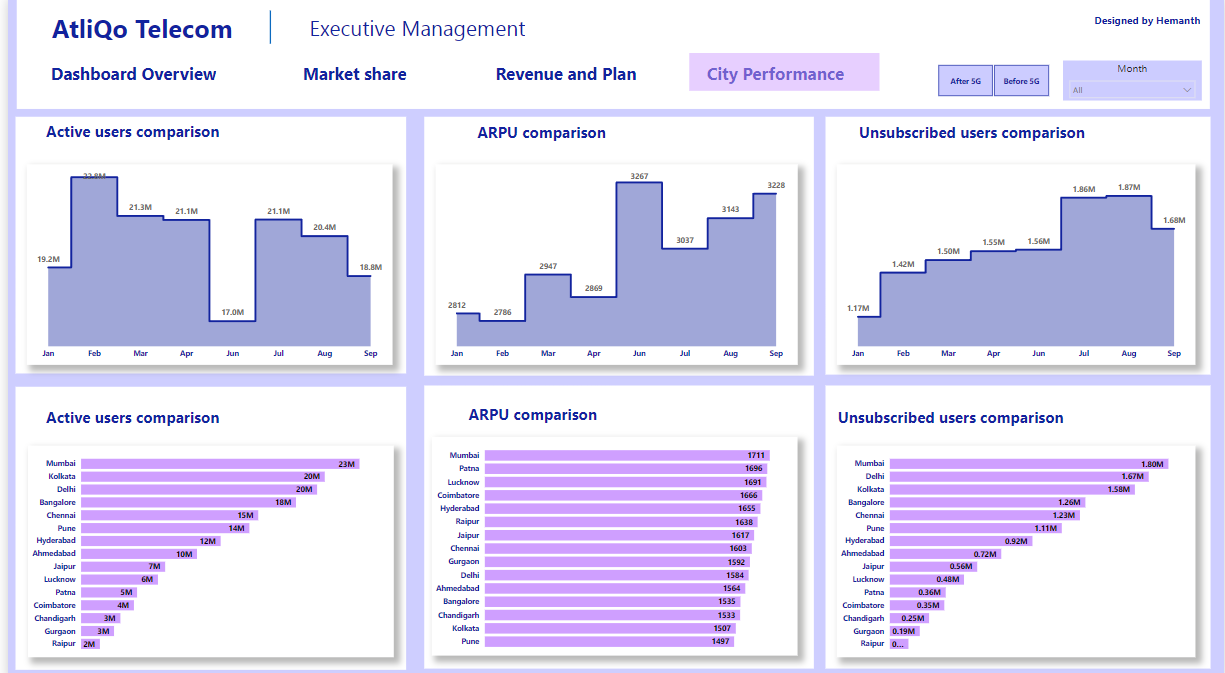

The page's visual inventory and layout, read from the dashboard file:
{"tool":"powerbi","page":{"name":"City Performance comparison","canvas":[1920,1080],"ordinal":3},"visuals":[{"type":"shape","box":[656.9,188.2,615.3,409],"z":0},{"type":"shape","box":[10.9,613.5,617.1,447],"z":1000},{"type":"barChart","fields":{"Category":["dim_cities.city_name"],"Y":["Sum(fact_atliq_metrics.active_users)"]},"box":[30.8,705.8,577.3,334.8],"z":2000},{"type":"shape","box":[29,632.3,334.8,61.5],"z":3000},{"type":"shape","box":[656.9,611.7,615.3,447],"z":4000},{"type":"barChart","fields":{"Category":["dim_cities.city_name"],"Y":["Sum(fact_atliq_metrics.arpu)"]},"box":[669.6,693.1,577.3,345.6],"z":5000},{"type":"shape","box":[660.5,631.6,334.8,48.9],"z":6000},{"type":"shape","box":[1290.3,611.7,608,447],"z":7000},{"type":"barChart","fields":{"Category":["dim_cities.city_name"],"Y":["Sum(fact_atliq_metrics.unsubscribed_users)"]},"box":[1308.4,705.8,566.4,334.8],"z":8000},{"type":"shape","box":[1297.5,631.6,383.6,61.5],"z":9000},{"type":"shape","box":[10.9,188.2,617.1,405.4],"z":10000},{"type":"lineChart","fields":{"Y":["Sum(fact_atliq_metrics.active_users)"],"Category":["dim_date.month_name"]},"box":[29,262.4,577.3,316.7],"z":11000},{"type":"shape","box":[29,186.4,334.8,48.9],"z":12000},{"type":"lineChart","fields":{"Y":["Sum(fact_atliq_metrics.arpu)"],"Category":["dim_date.month_name"]},"box":[675,262.4,571.9,316.7],"z":13000},{"type":"shape","box":[675,188.2,334.8,47.1],"z":14000},{"type":"shape","box":[1290.3,188.2,608,407.2],"z":15000},{"type":"areaChart","fields":{"Y":["Sum(fact_atliq_metrics.unsubscribed_users)"],"Category":["dim_date.month_name"]},"box":[1308.4,262.4,566.4,316.7],"z":16000},{"type":"shape","box":[1308.4,188.2,427.1,47.1],"z":17000},{"type":"shape","box":[14.5,0,1883.9,175.5],"z":18000},{"type":"shape","box":[47.1,19.9,329.4,52.5],"z":19000},{"type":"shape","box":[437.9,19.9,416.2,52.5],"z":20000},{"type":"shape","box":[390.9,19.9,47.1,52.5],"z":21000},{"type":"shape","box":[34.4,90.5,329.4,54.3],"z":22000},{"type":"shape","box":[390.9,90.5,313.1,54.3],"z":23000},{"type":"shape","box":[736.5,90.5,289.5,54.3],"z":24000},{"type":"shape","box":[1047.8,90.5,327.5,54.3],"z":25000},{"type":"slicer","fields":{"Values":["dim_date.before/after_5g"]},"box":[1442.3,99.5,224.4,63.3],"z":26000},{"type":"shape","box":[1699.3,19.9,199.1,29],"z":27000},{"type":"slicer","title":"Month","fields":{"Values":["dim_date.month_name"]},"box":[1666.7,99.5,219,63.3],"z":28000},{"type":"shape","box":[1074.9,86.9,300.4,59.7],"z":29000}]}

Visuals, with their boxes in screenshot pixels (x1, y1, x2, y2), scaled from the page's 1920x1080 canvas onto the 1225x673 screenshot:
shape: <region>419, 117, 812, 372</region>
shape: <region>7, 382, 401, 661</region>
barChart - dim_cities.city_name x Sum(fact_atliq_metrics.active_users): <region>20, 440, 388, 648</region>
shape: <region>19, 394, 232, 432</region>
shape: <region>419, 381, 812, 660</region>
barChart - dim_cities.city_name x Sum(fact_atliq_metrics.arpu): <region>427, 432, 796, 647</region>
shape: <region>421, 394, 635, 424</region>
shape: <region>823, 381, 1211, 660</region>
barChart - dim_cities.city_name x Sum(fact_atliq_metrics.unsubscribed_users): <region>835, 440, 1196, 648</region>
shape: <region>828, 394, 1073, 432</region>
shape: <region>7, 117, 401, 370</region>
lineChart - Sum(fact_atliq_metrics.active_users) x dim_date.month_name: <region>19, 164, 387, 361</region>
shape: <region>19, 116, 232, 147</region>
lineChart - Sum(fact_atliq_metrics.arpu) x dim_date.month_name: <region>431, 164, 796, 361</region>
shape: <region>431, 117, 644, 147</region>
shape: <region>823, 117, 1211, 371</region>
areaChart - Sum(fact_atliq_metrics.unsubscribed_users) x dim_date.month_name: <region>835, 164, 1196, 361</region>
shape: <region>835, 117, 1107, 147</region>
shape: <region>9, 0, 1211, 109</region>
shape: <region>30, 12, 240, 45</region>
shape: <region>279, 12, 545, 45</region>
shape: <region>249, 12, 279, 45</region>
shape: <region>22, 56, 232, 90</region>
shape: <region>249, 56, 449, 90</region>
shape: <region>470, 56, 655, 90</region>
shape: <region>669, 56, 877, 90</region>
slicer - dim_date.before/after_5g: <region>920, 62, 1063, 101</region>
shape: <region>1084, 12, 1211, 30</region>
"Month" slicer: <region>1063, 62, 1203, 101</region>
shape: <region>686, 54, 877, 91</region>
